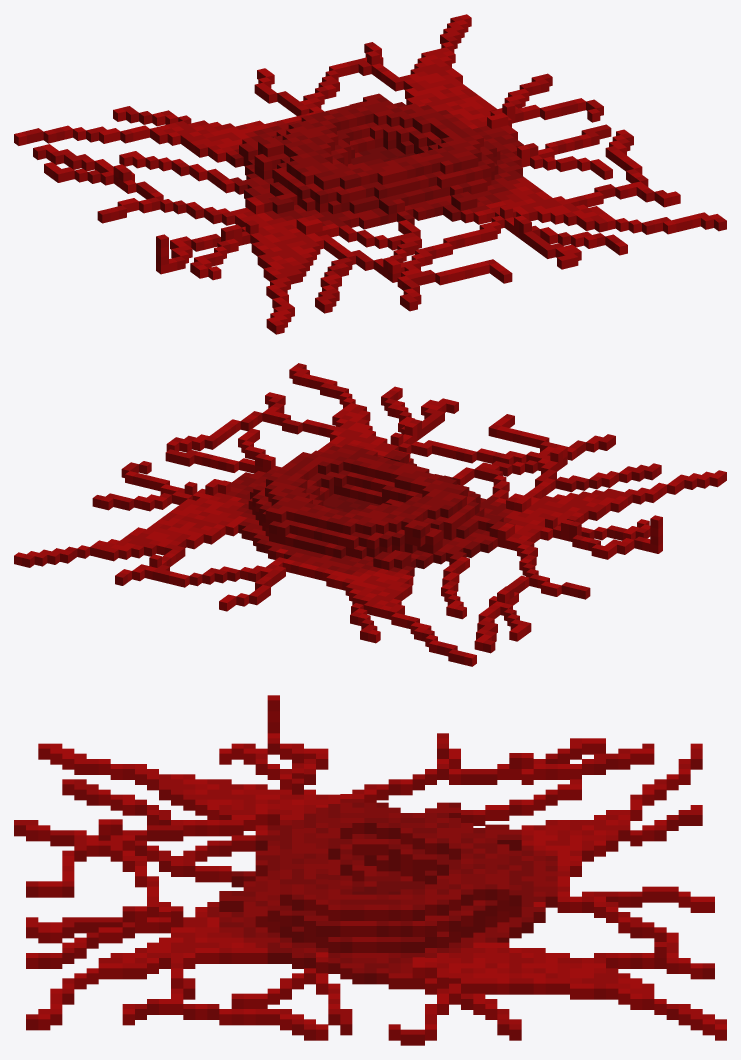
The model's file is Bines-2.obj.
3 views of the same model, one above another, from view 1: azimuth 30°, elevation 25°; view 2: azimuth 150°, elevation 25°; view 3: azimuth 270°, elevation 25° (orthographic). The views are drawn at different scales.
Bounding box in the file's own units: 6 × 0.4 × 5.9.
1 material, 1 textured.
